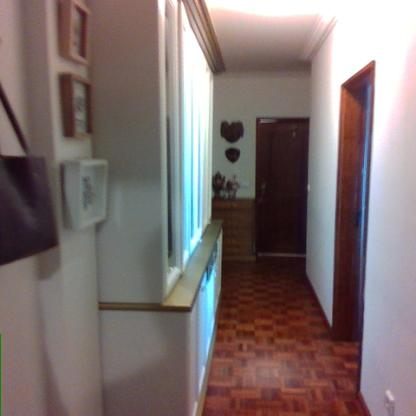closed: (250, 109, 319, 262)
